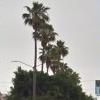Palm tree: (21, 0, 66, 100)
